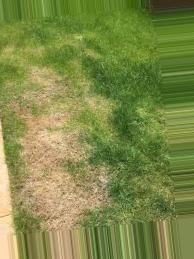patch: (13, 142, 108, 178), (4, 47, 77, 90), (16, 104, 98, 137), (13, 180, 92, 212)
